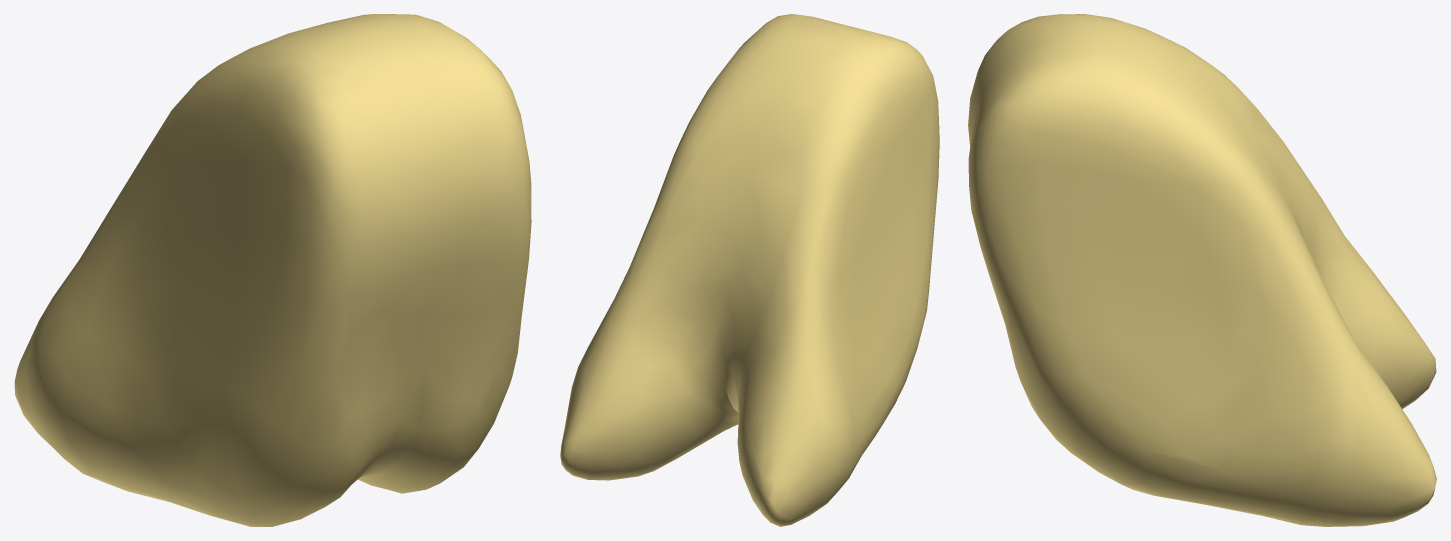
File: fma74869_mm2797.glb
3 views of the same model, side by side, from view 1: azimuth 30°, elevation 25°; view 2: azimuth 150°, elevation 25°; view 3: azimuth 270°, elevation 25° (orthographic). The views are drawn at different scales.
Visible parts, largest first — view 1: FMA74869_MM2797; view 2: FMA74869_MM2797; view 3: FMA74869_MM2797.
Part boxes in pixels (x1=…): FMA74869_MM2797: x1=14, y1=14, x2=531, y2=526; FMA74869_MM2797: x1=560, y1=14, x2=939, y2=526; FMA74869_MM2797: x1=968, y1=14, x2=1436, y2=526.
Bounding box in the file's own units: 0.00309 × 0.0043 × 0.00414.
